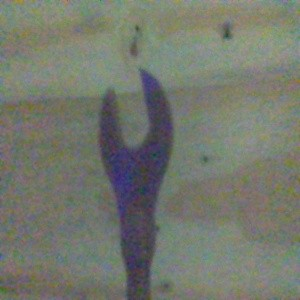spanner: (97, 67, 175, 300)
